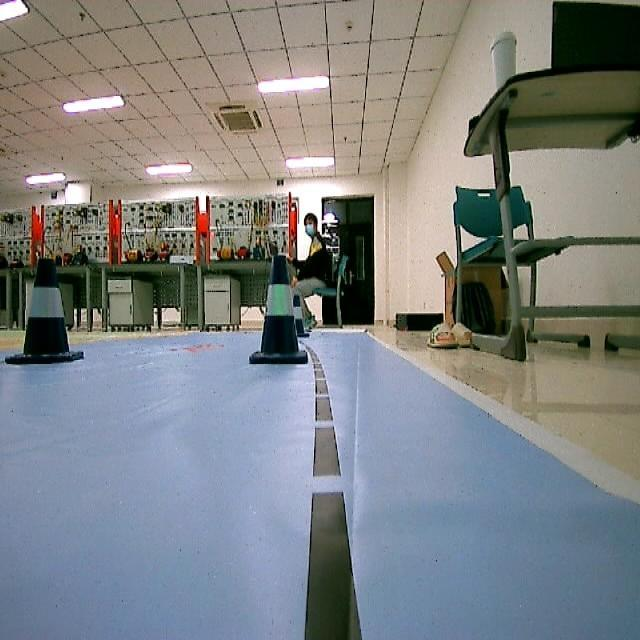obstacle: (5, 256, 85, 373), (251, 256, 307, 368)
